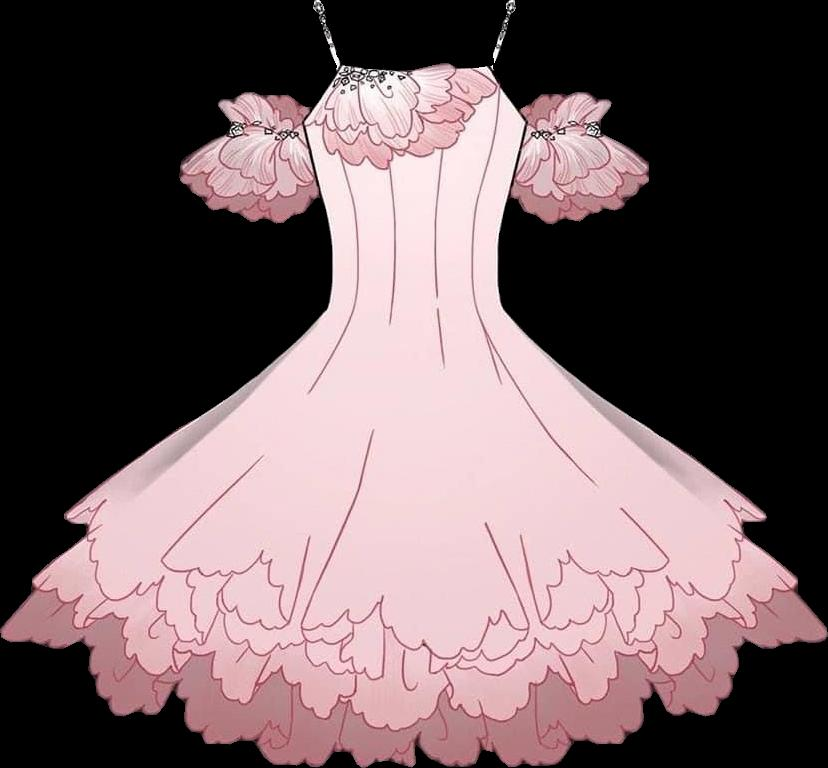Bodice: (298, 63, 530, 307)
Hemline: (65, 501, 762, 679), (0, 628, 827, 767)
Neckline: (338, 60, 499, 75)
Skirt: (0, 308, 827, 767)
Sleeve: (507, 92, 648, 223), (179, 92, 319, 223)
Sleeveline: (499, 109, 538, 198), (295, 106, 329, 195), (231, 121, 303, 138), (531, 119, 602, 131)
